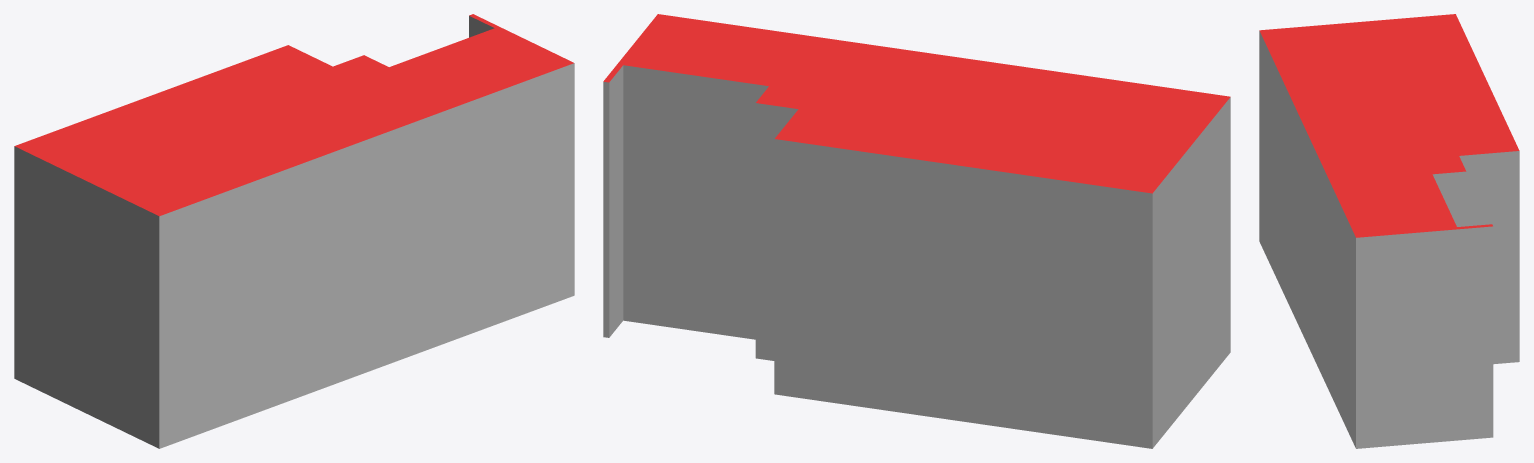
Rendered from DEBE3D01YYK0003UY2.dae.
The picture shows the model from 3 angles, left to right: view 1: azimuth 30°, elevation 25°; view 2: azimuth 150°, elevation 25°; view 3: azimuth 270°, elevation 25°; orthographic projection. The views are drawn at different scales.
Size of the model in its own units: 16.09 by 7.9 by 7.08.
